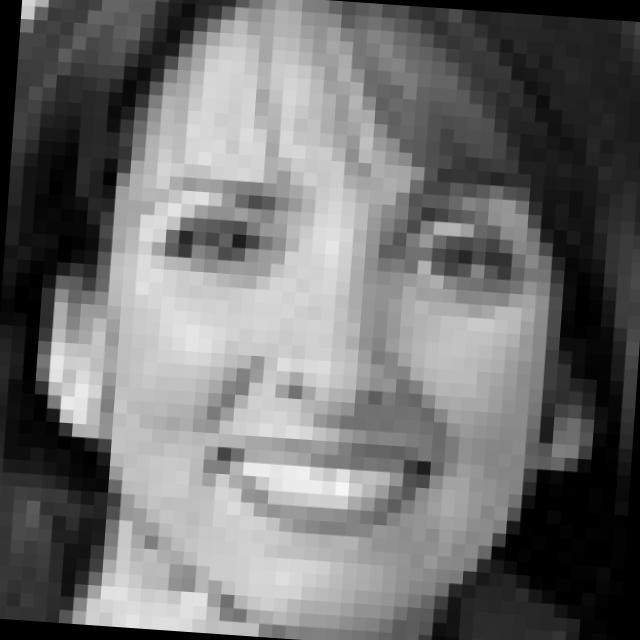happy: (100, 124, 544, 567)
